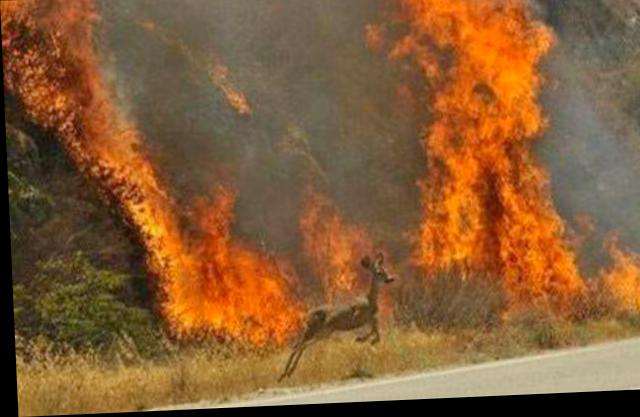fire: (1, 0, 391, 354), (384, 0, 639, 327)
